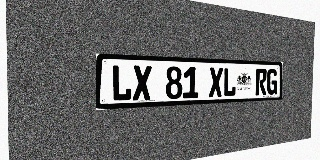1: (183, 67, 199, 98)
8: (166, 66, 183, 99)
G: (267, 69, 278, 95)
L: (111, 65, 132, 102), (223, 68, 236, 97)
R: (255, 69, 267, 95)
X: (133, 65, 152, 101), (209, 67, 223, 97)
